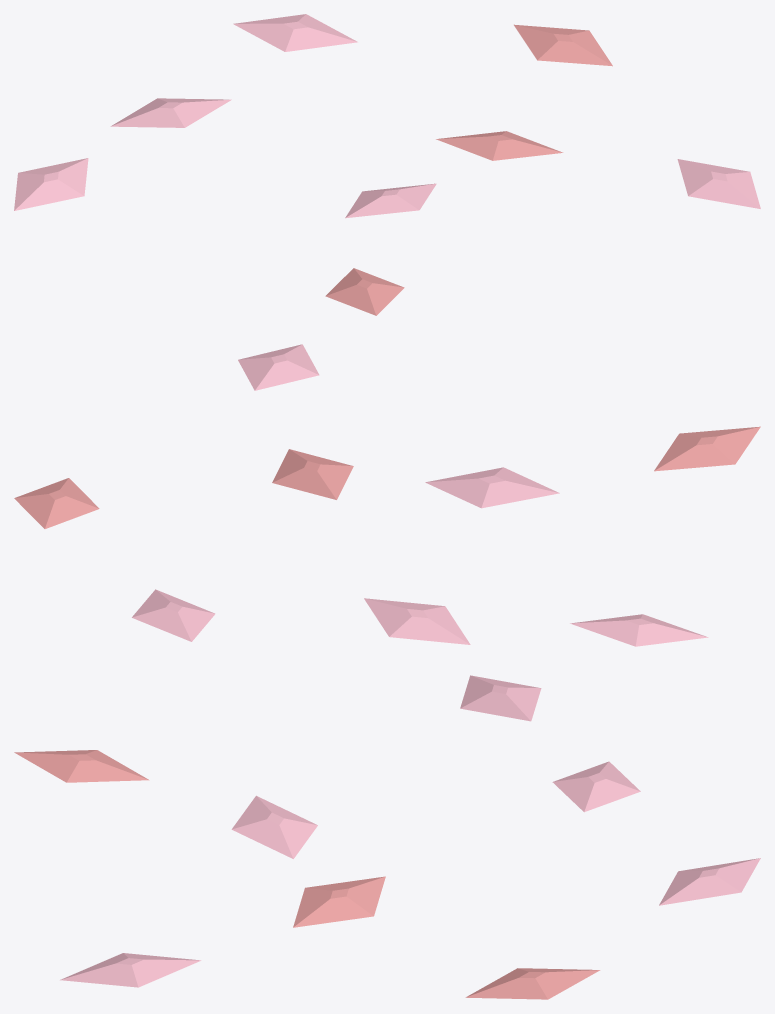
File: fallen-petals.glb
3 renders of one model, top to bottom at view 1: azimuth 30°, elevation 25°; view 2: azimuth 150°, elevation 25°; view 3: azimuth 270°, elevation 25°, orthographic. The views are drawn at different scales.
Visible parts, largest first — view 1: fallen-petals; view 2: fallen-petals; view 3: fallen-petals.
Part boxes in pixels (bbox=[...]): fallen-petals: bbox=[14, 14, 760, 315]; fallen-petals: bbox=[14, 344, 760, 646]; fallen-petals: bbox=[14, 675, 760, 999].
Size of the model in its own units: 0.487 by 0.00975 by 0.4644.
